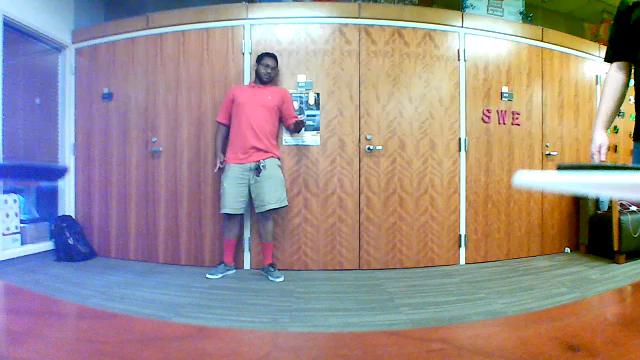land: (283, 109, 312, 137)
